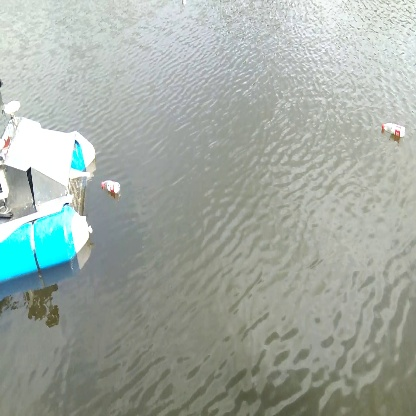bottle: (374, 117, 409, 145), (98, 175, 122, 197)
